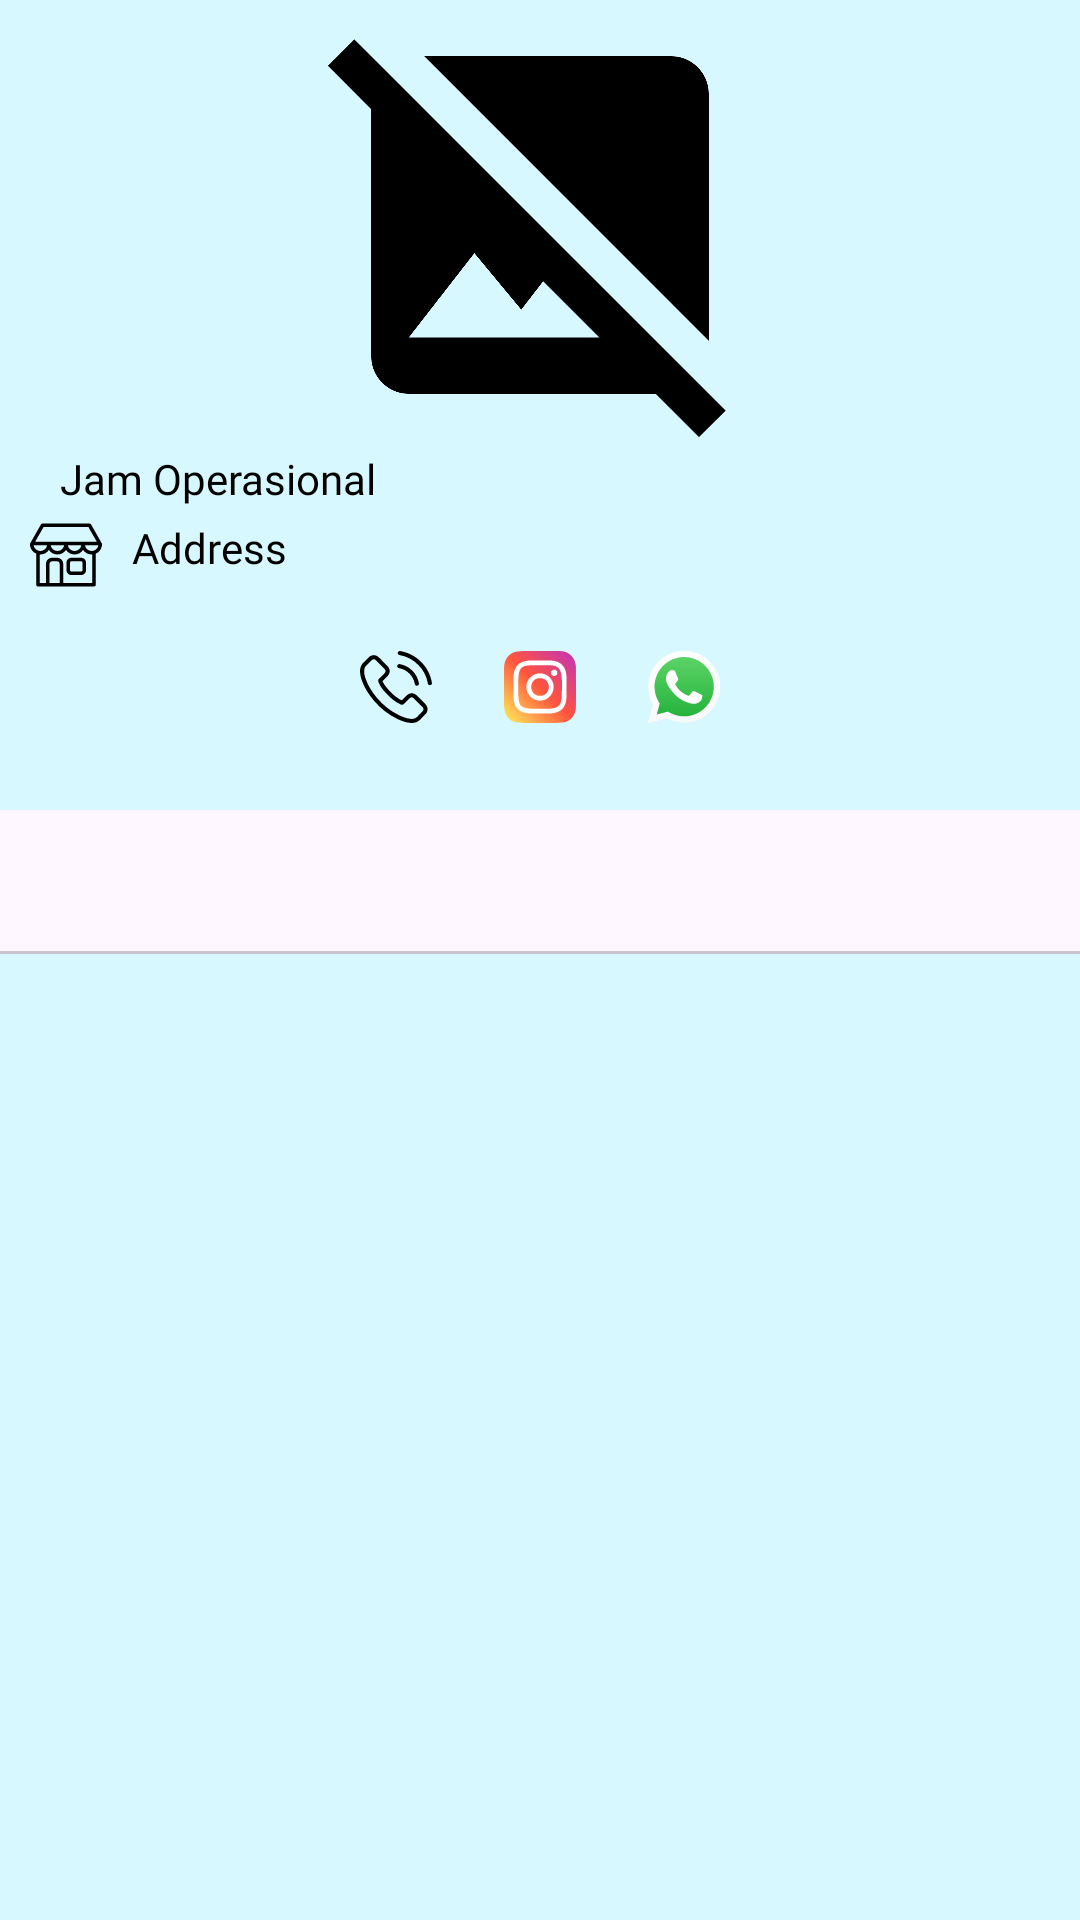

Icons on this 1080 x 1920 Android screen, each with its box as (x1, y1, x2, y2):
phone: (360, 651, 432, 723)
shop: (30, 523, 102, 587)
